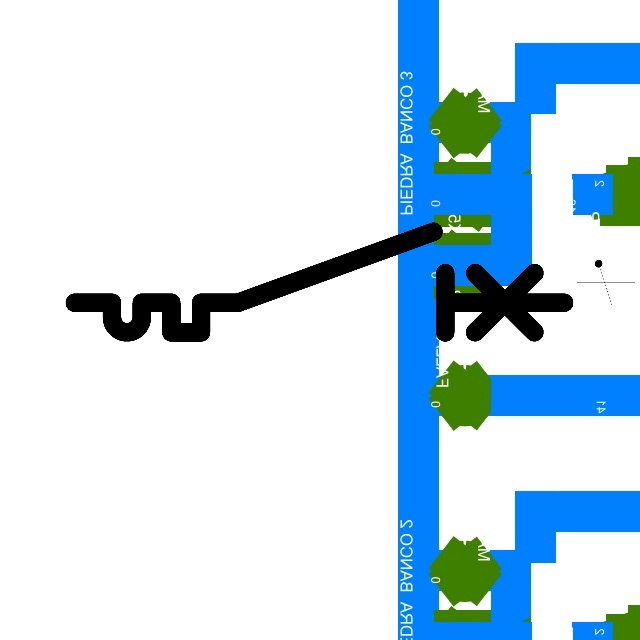interruptor_termomagnetico: (62, 219, 576, 345)
